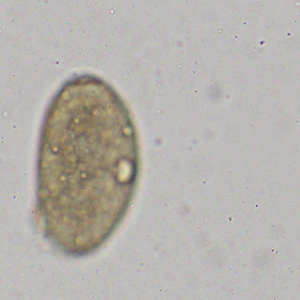Fasciola_hepatica_egg: (35, 70, 139, 256)
